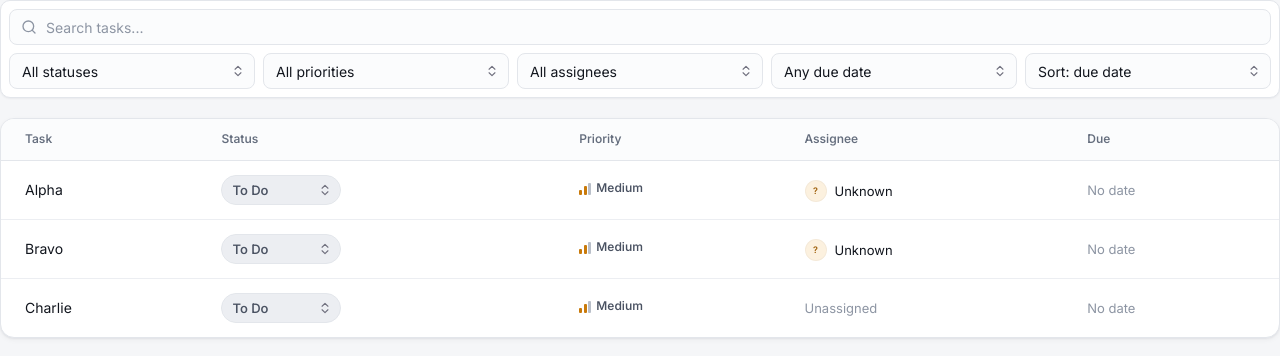
Test: TaskTable filters and saved views › offers "Assigned to me" only when the current user is known
Expected: the option "Assigned to me" is not shown
Select "Assigned to me" in the dropdown named "Filter by assignee". click: {"x": 640, "y": 71}
box: top-left (517, 53), bottom-right (763, 89)
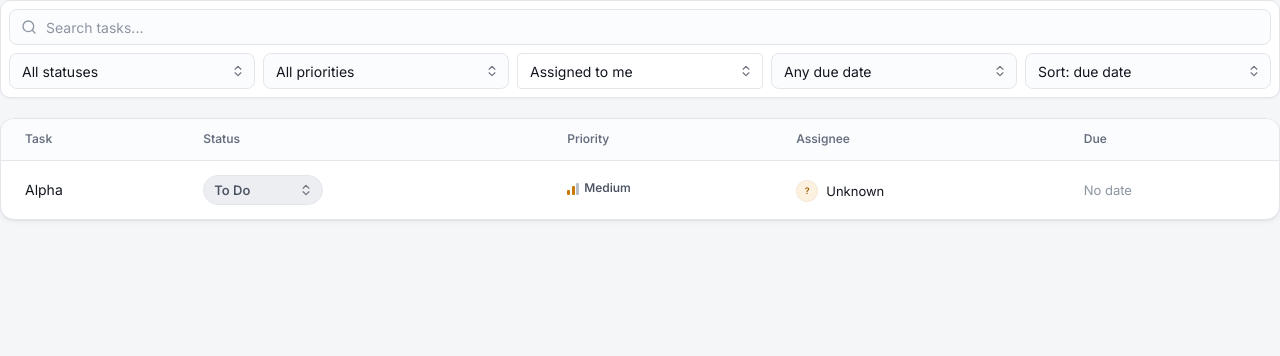
Expected: the button "Alpha" is shown, top-left (25, 179), bottom-right (171, 200)
Now the button "Bravo" is gone
Now the button "Charlie" is gone
